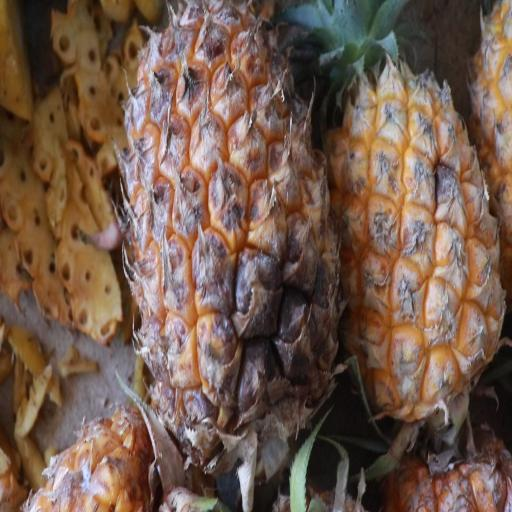Pineapple - v8 v1: (119, 0, 346, 487), (322, 0, 510, 440)
